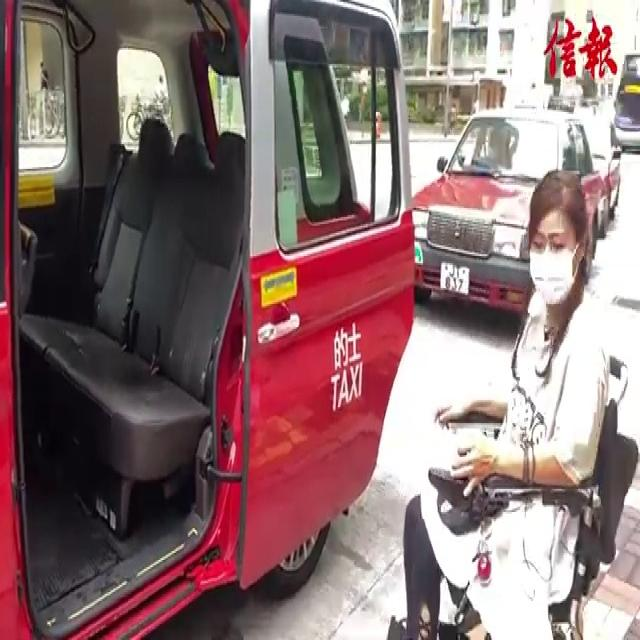wheelchairs: (413, 351, 640, 640)
